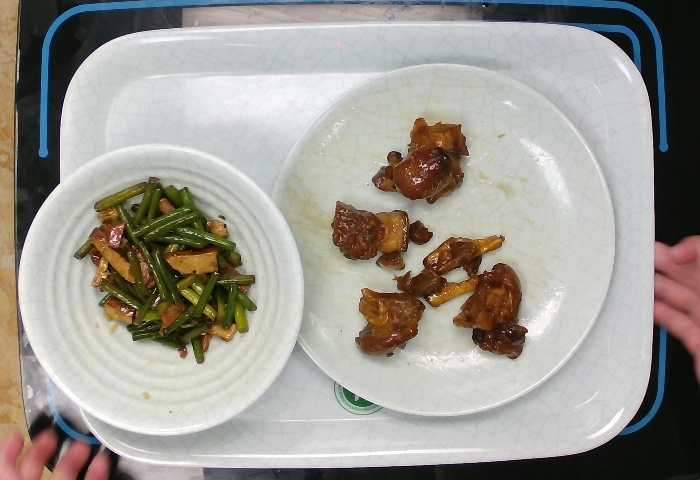JYsf-Da_Yuan_Pan: (268, 61, 618, 420)
JYsf-Xiao_Tang_Wan: (15, 141, 306, 438)
